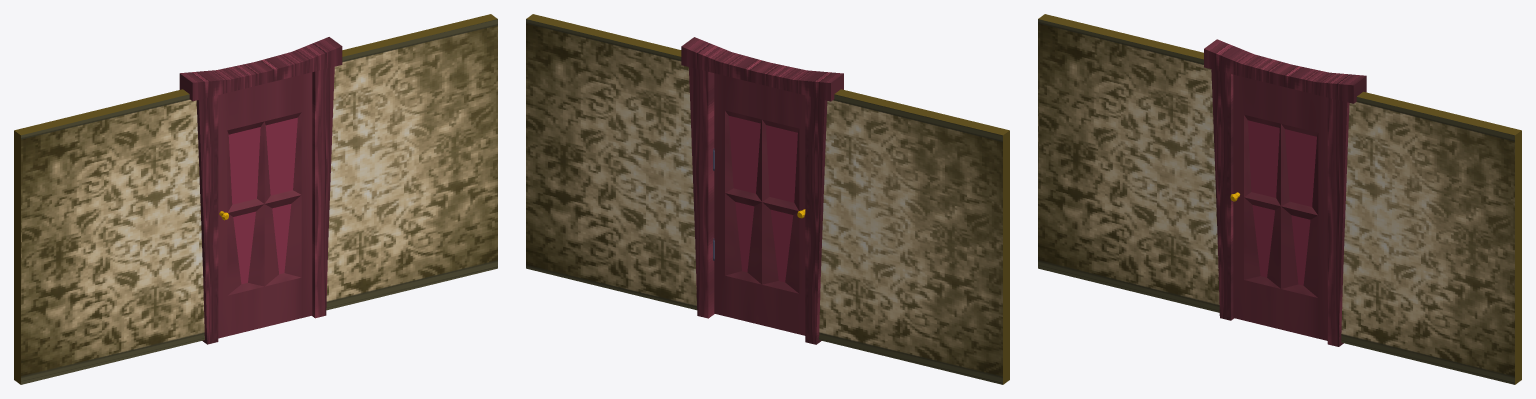
Rendered from Wall_Door (1).fbx.
The picture shows the model from 3 angles, left to right: view 1: azimuth 30°, elevation 25°; view 2: azimuth 150°, elevation 25°; view 3: azimuth 330°, elevation 25°; orthographic projection.
Parts seen in each view (by area): view 1: Wall4.002, Door, Frame; view 2: Wall4.002, Door, Frame; view 3: Wall4.002, Door, Frame.
Part boxes in pixels (bbox=[...]): Wall4.002: bbox=[14, 14, 497, 384]; Door: bbox=[218, 72, 312, 338]; Frame: bbox=[179, 37, 342, 344]; Wall4.002: bbox=[526, 14, 1009, 384]; Door: bbox=[714, 73, 805, 335]; Frame: bbox=[681, 37, 843, 344]; Wall4.002: bbox=[1038, 14, 1521, 384]; Door: bbox=[1230, 74, 1327, 340]; Frame: bbox=[1204, 39, 1366, 346].
Bounding box in the file's own units: 4 × 2.13 × 0.2305.
